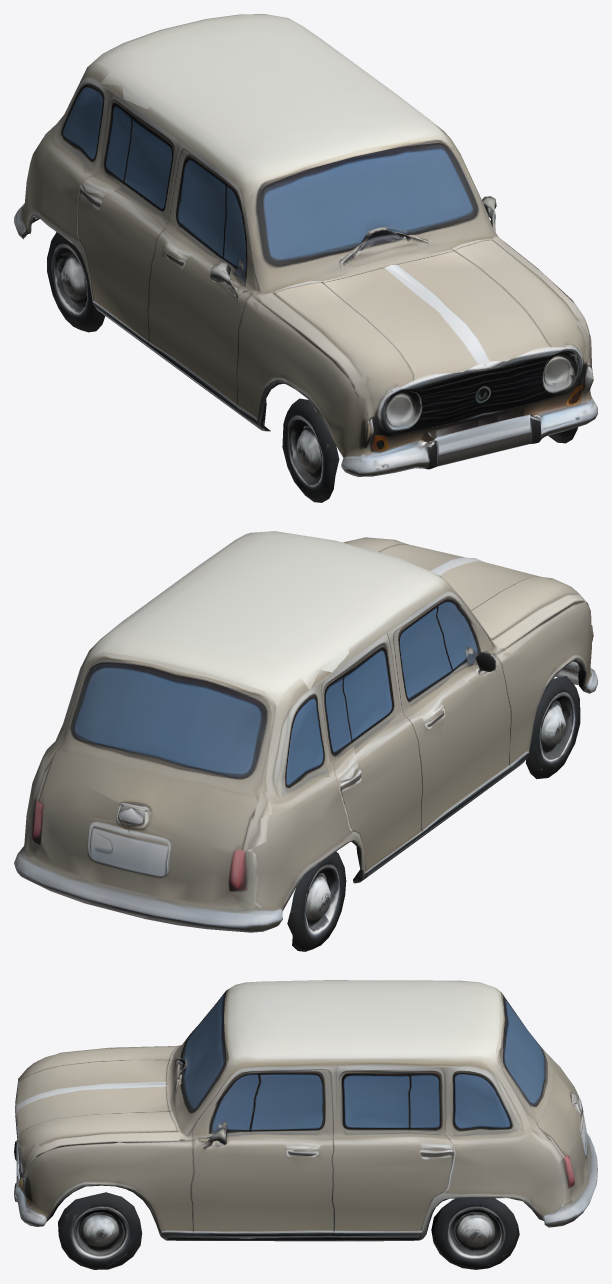
File: renault4_low.fbx
The picture shows the model from 3 angles, top to bottom: view 1: azimuth 30°, elevation 25°; view 2: azimuth 150°, elevation 25°; view 3: azimuth 270°, elevation 25°; orthographic projection. The views are drawn at different scales.
Visible parts, largest first — view 1: renault4; view 2: renault4; view 3: renault4.
Part boxes in pixels (bbox=[...]): renault4: bbox=[14, 14, 597, 502]; renault4: bbox=[14, 531, 597, 951]; renault4: bbox=[14, 980, 597, 1269].
Bounding box in the file's own units: 60.23 × 54.47 × 133.
